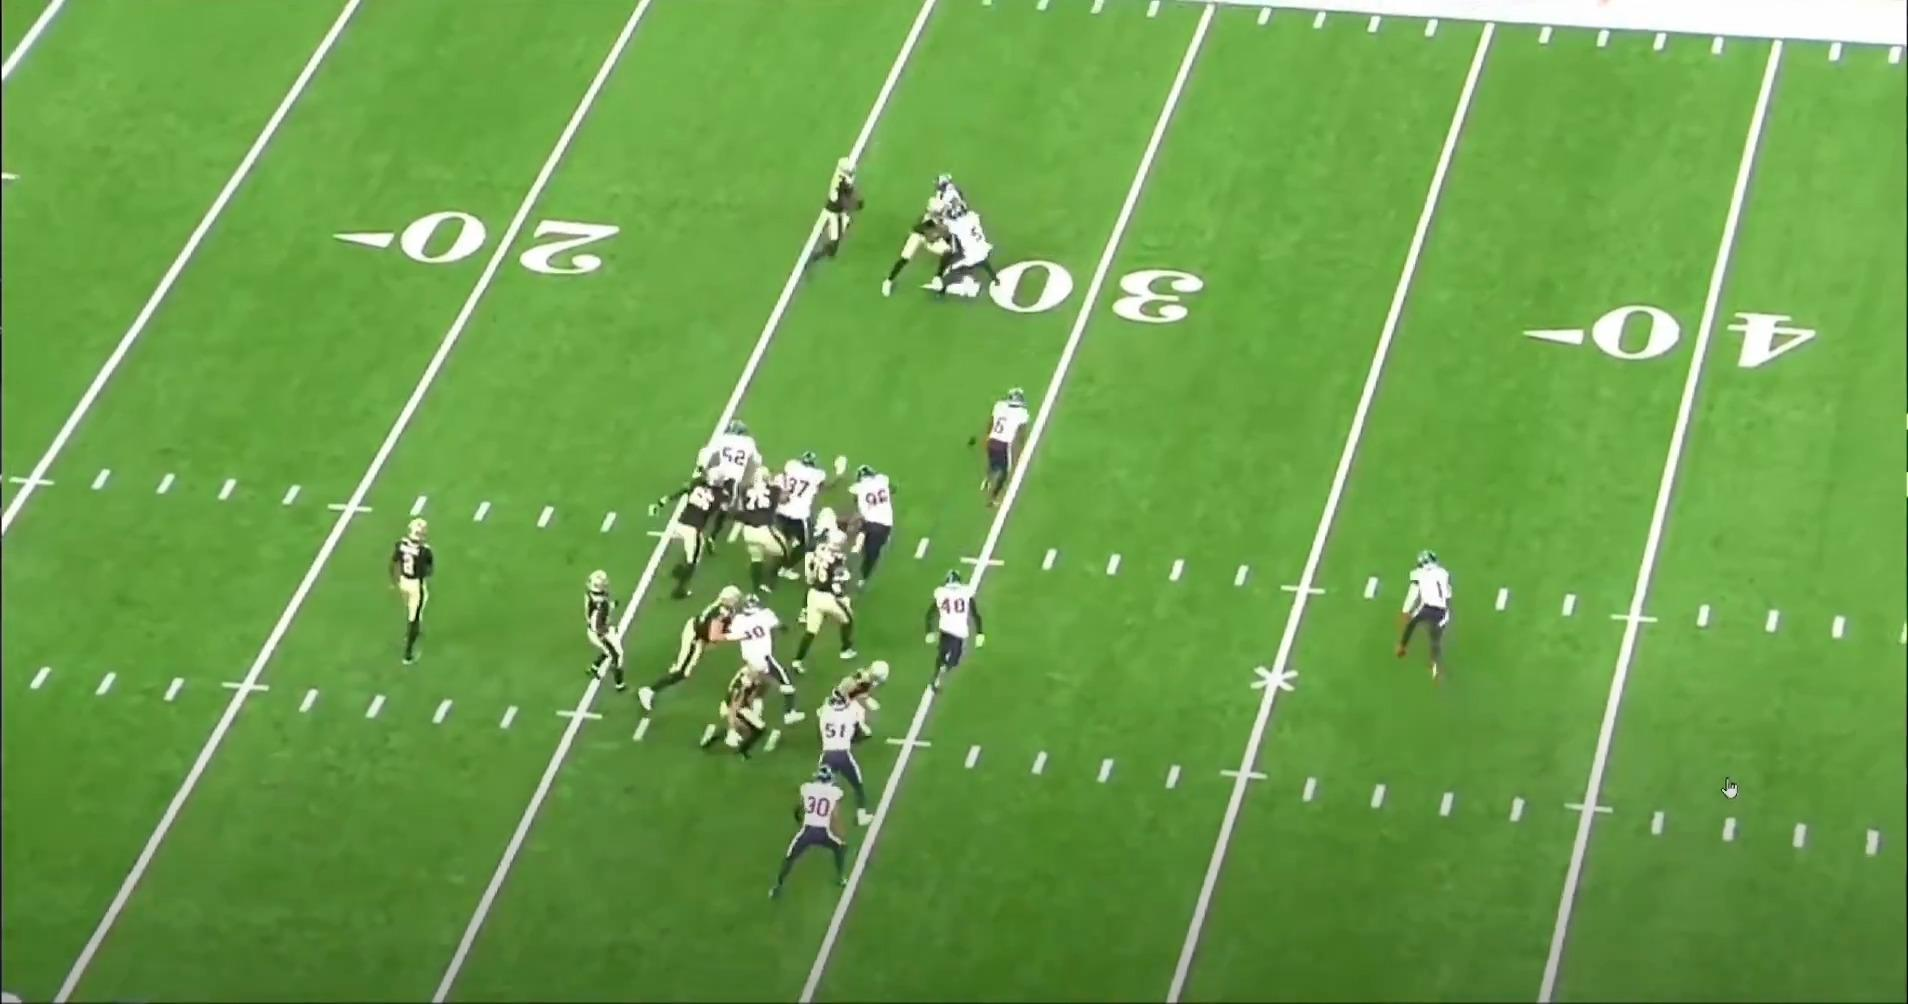player: (637, 582, 754, 713), (763, 762, 858, 900), (720, 591, 810, 729), (871, 180, 970, 303), (656, 473, 746, 602), (787, 531, 861, 669), (378, 515, 440, 678), (813, 687, 883, 828), (728, 463, 796, 598), (1390, 552, 1455, 690), (694, 658, 777, 765), (921, 566, 989, 695), (928, 201, 1008, 304), (967, 384, 1032, 510), (577, 566, 638, 698), (906, 171, 987, 268), (834, 468, 895, 591), (808, 157, 868, 273), (773, 455, 836, 558), (836, 657, 901, 745), (689, 416, 770, 480)
